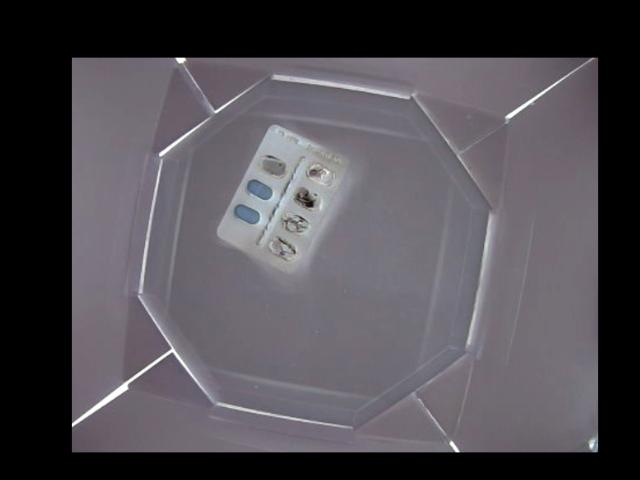Medicine: (217, 121, 350, 267)
